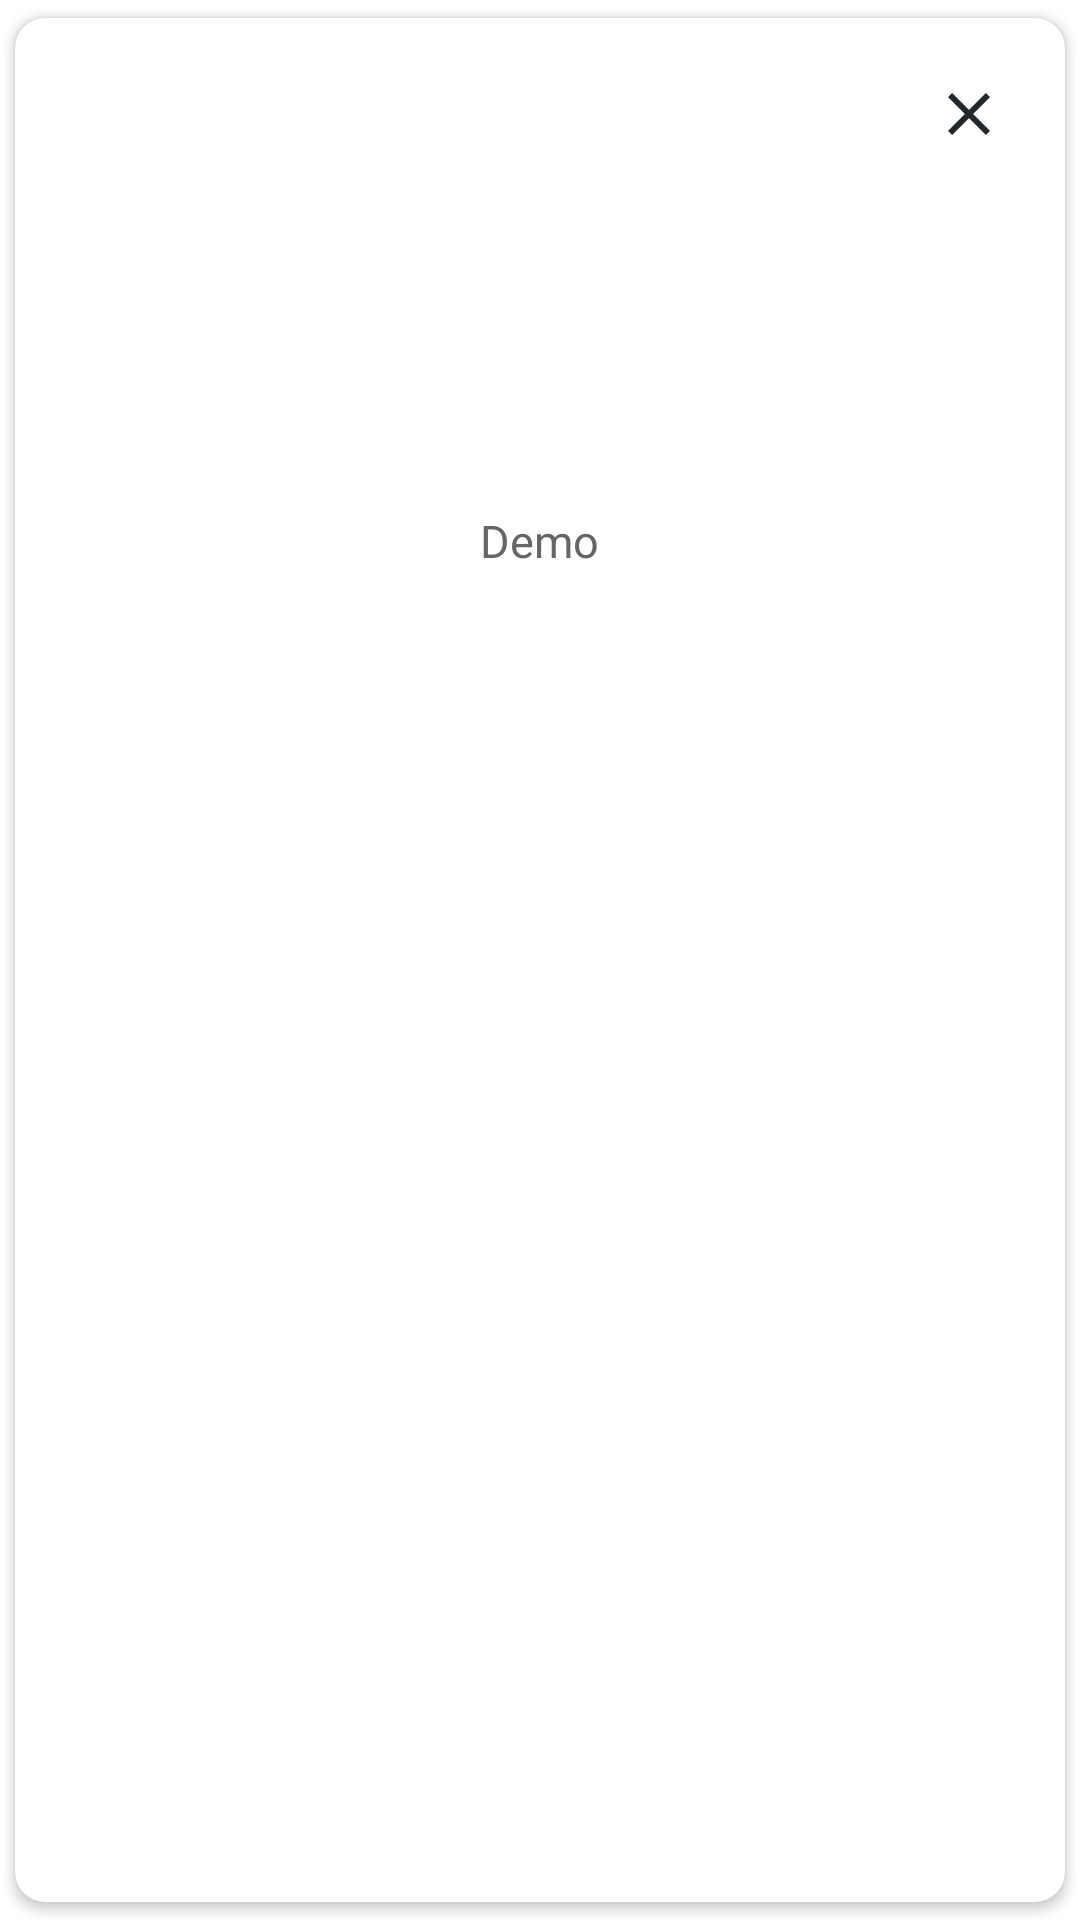

Named icons in this screenshot (1080px×1920px) and their bounding boxes, bbox=(x1, y1, x2, y2):
close: bbox=(948, 93, 990, 135)
